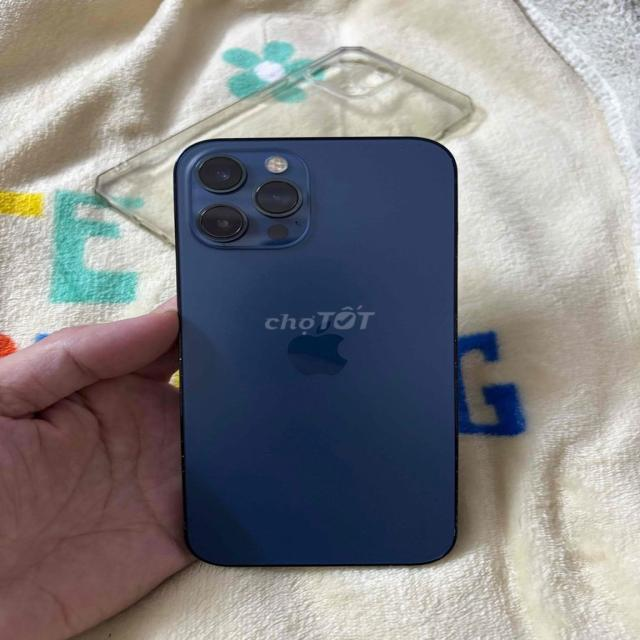gen_12_13: (160, 133, 496, 580)
